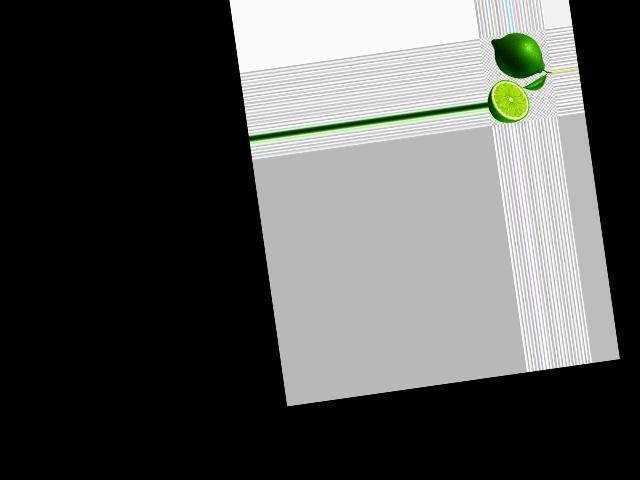lemon: (488, 29, 547, 89)
